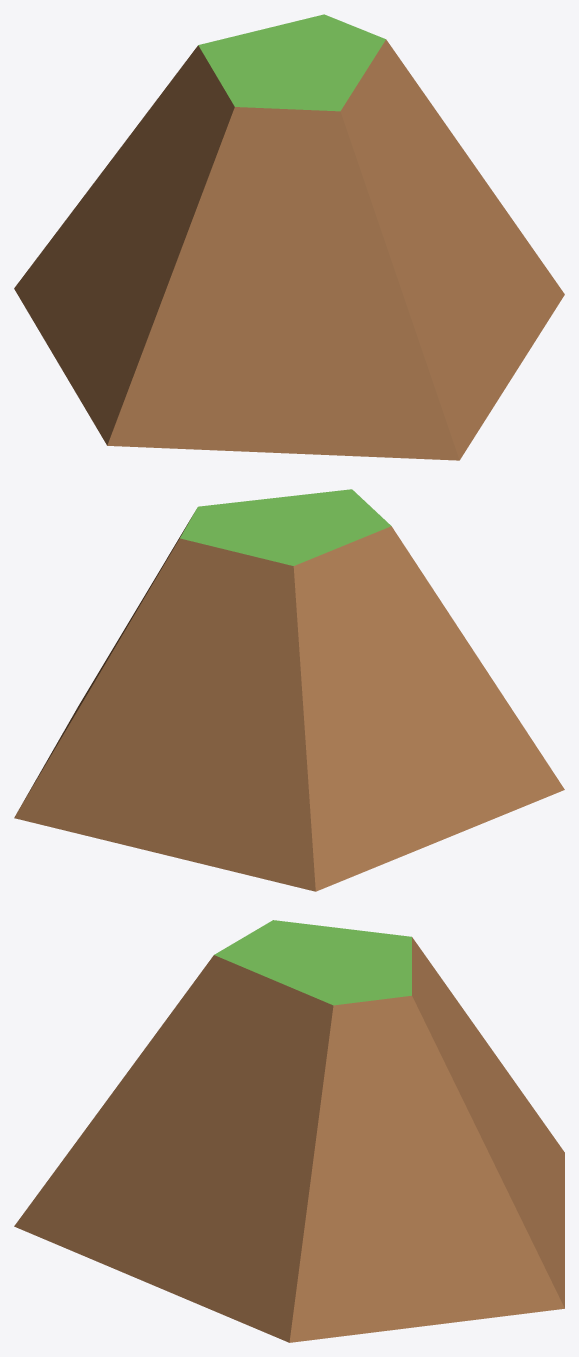
The model's file is rock_small.glb.
The picture shows the model from 3 angles, top to bottom: view 1: azimuth 30°, elevation 25°; view 2: azimuth 150°, elevation 25°; view 3: azimuth 270°, elevation 25°; orthographic projection. The views are drawn at different scales.
Visible parts, largest first — view 1: rock_smallA; view 2: rock_smallA; view 3: rock_smallA.
Boxes of the visible parts, x1=… form: rock_smallA: x1=14, y1=14, x2=564, y2=460; rock_smallA: x1=14, y1=489, x2=564, y2=891; rock_smallA: x1=14, y1=920, x2=564, y2=1342.
Bounding box in the file's own units: 0.3608 × 0.1912 × 0.3608.
